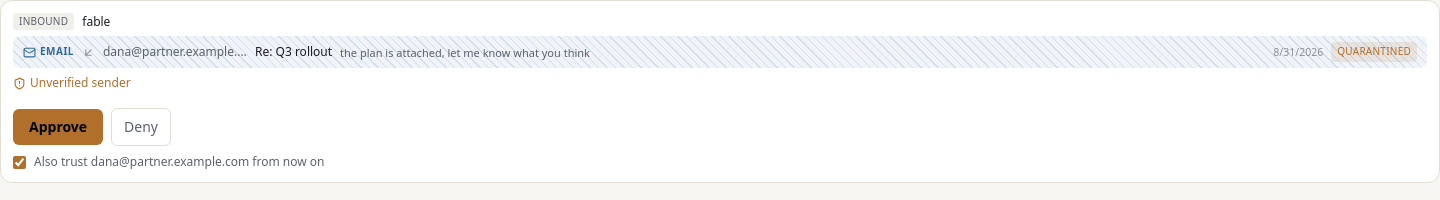
Test case: EmailApprovalRow — resolution is final › collapses in place to "Delivered — sender trusted" after approving inbound
This screenshot has width=1440, height=200.
Click the button "Approve" at (58, 126), box [13, 108, 103, 144]
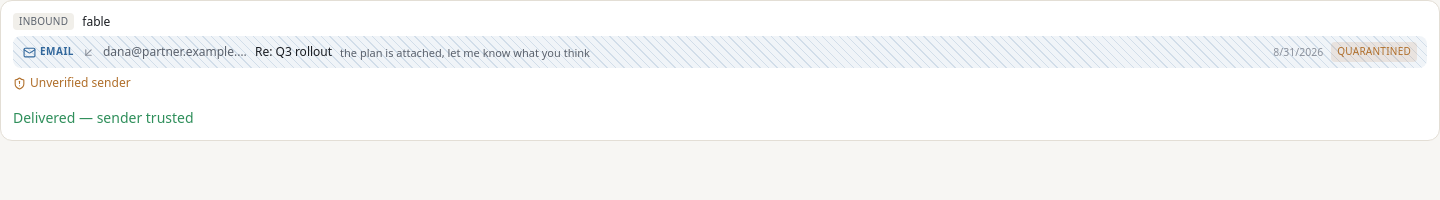
Check: the message reads "Delivered — sender trusted", box [13, 108, 194, 126]
Check: the button "Approve" is gone
